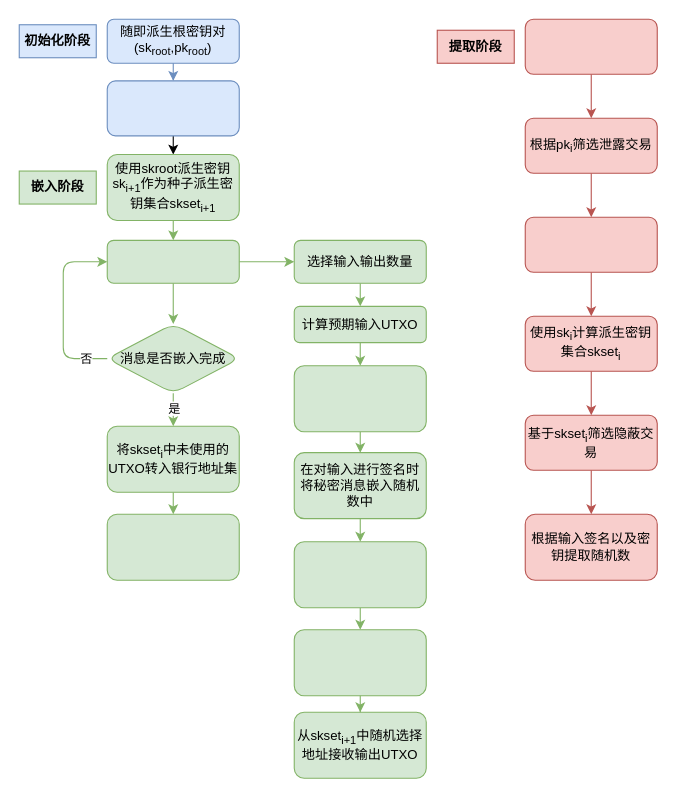
This 677x798 diagram has some shape labels left out. Here are the shapes that lost their labels. From the top down, the box of each, then its label:
(524, 18, 657, 74): 使用pk root 派生pk i
(106, 80, 239, 136): 将pk root 以及泄露随机数共享给接收方
(106, 239, 239, 283): 构造隐蔽交易
(524, 216, 657, 272): 根据泄露随机数提取sk i
(293, 365, 426, 432): 从skset i 持有的UTXO中选择最接近预期的作为输入
(106, 513, 239, 580): 使用sk i 作为输入密钥，泄露随机数作为签名随机数构造泄露交易
(293, 541, 426, 608): 根据交易大小计算交易费以及实际输出总金额
(293, 629, 426, 696): 计算预期输出UTXO并将其放缩至实际输出金额
